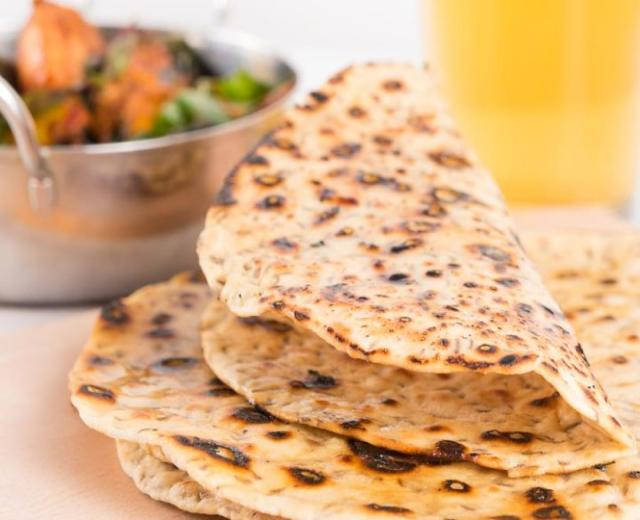chapati: (69, 64, 639, 519)
